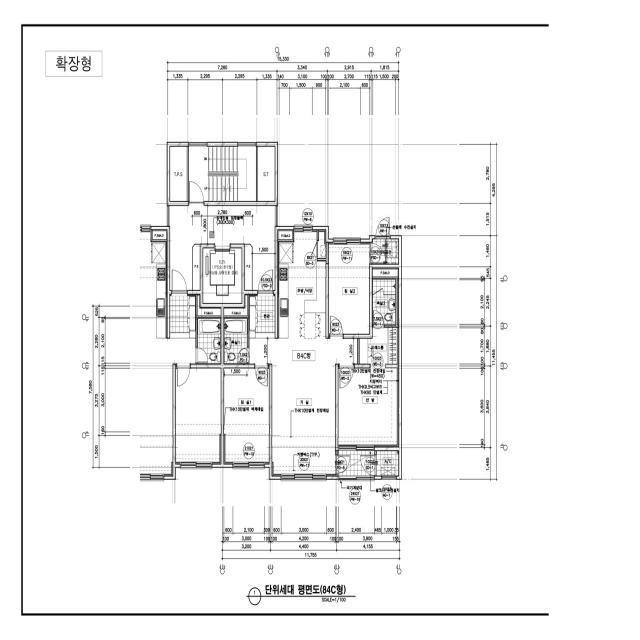space_balconi: (337, 451, 375, 476)
space_bedroom: (338, 368, 398, 447), (224, 368, 269, 464), (329, 243, 369, 334)
space_dressroom: (359, 328, 398, 364)
space_elevator: (203, 248, 242, 303)
space_elevator_hall: (170, 206, 275, 290)
space_front: (249, 295, 275, 338)
space_kitchen: (278, 230, 326, 338)
space_living_room: (249, 338, 357, 476)
space_other: (258, 147, 275, 201), (170, 147, 187, 201), (371, 239, 398, 264), (377, 451, 398, 476), (224, 295, 247, 316), (193, 245, 200, 290), (245, 245, 252, 290), (372, 268, 398, 277), (278, 230, 292, 239)
space_staircase: (189, 146, 256, 201)
space_toilet: (224, 318, 248, 364), (372, 279, 396, 325)
